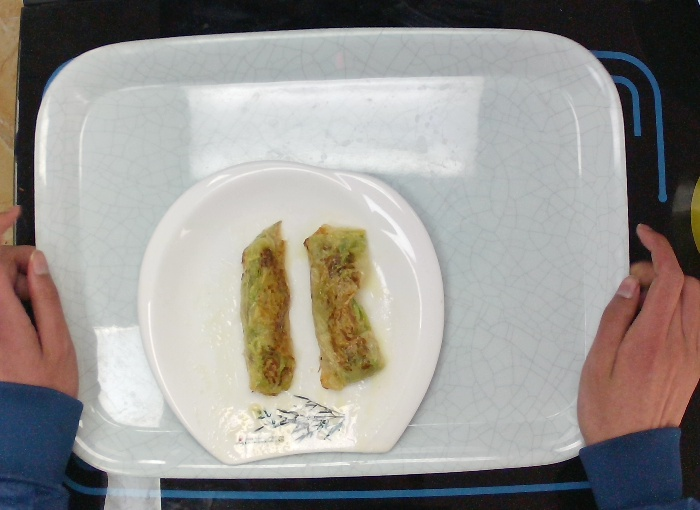JYsf-Mian_Pan: (134, 157, 449, 469)
